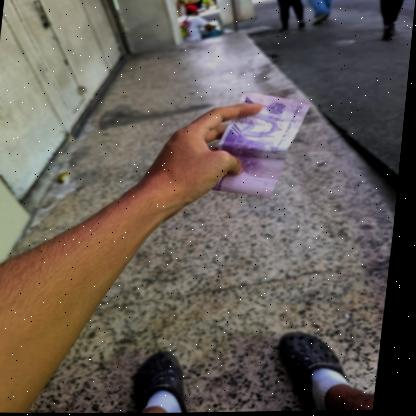one_hundred-back-vef: (212, 90, 315, 199)
